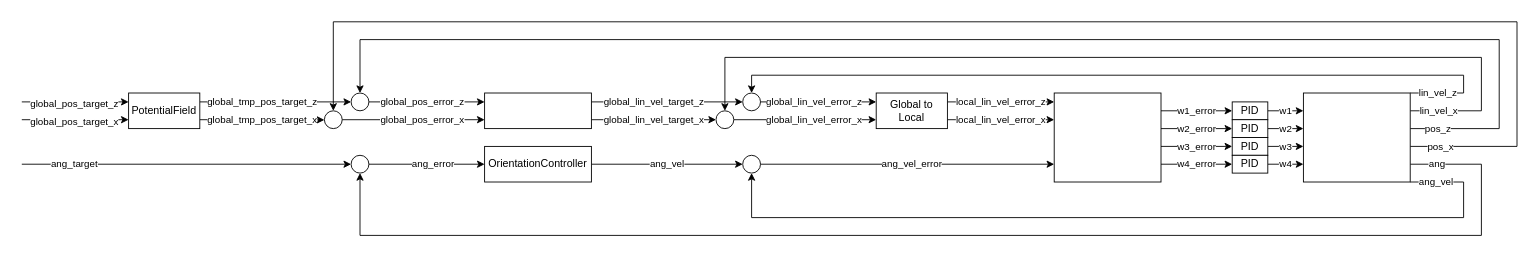
Image size: 1540x258. Some labels were removed from this diagram. The shapes that lost their labels are listed below. From the top down, each one's centre as x and y in pixels, then its label:
At point (537, 110): "PositionController".
At point (1107, 137): "Inverse Kinematics".
At point (1356, 137): "Godot".
